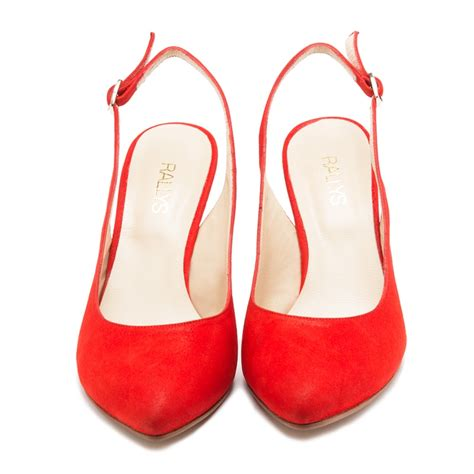gamuza: (75, 275, 407, 439)
